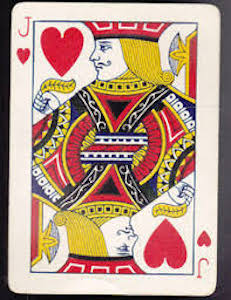JackOfHearts: (4, 1, 221, 297)
